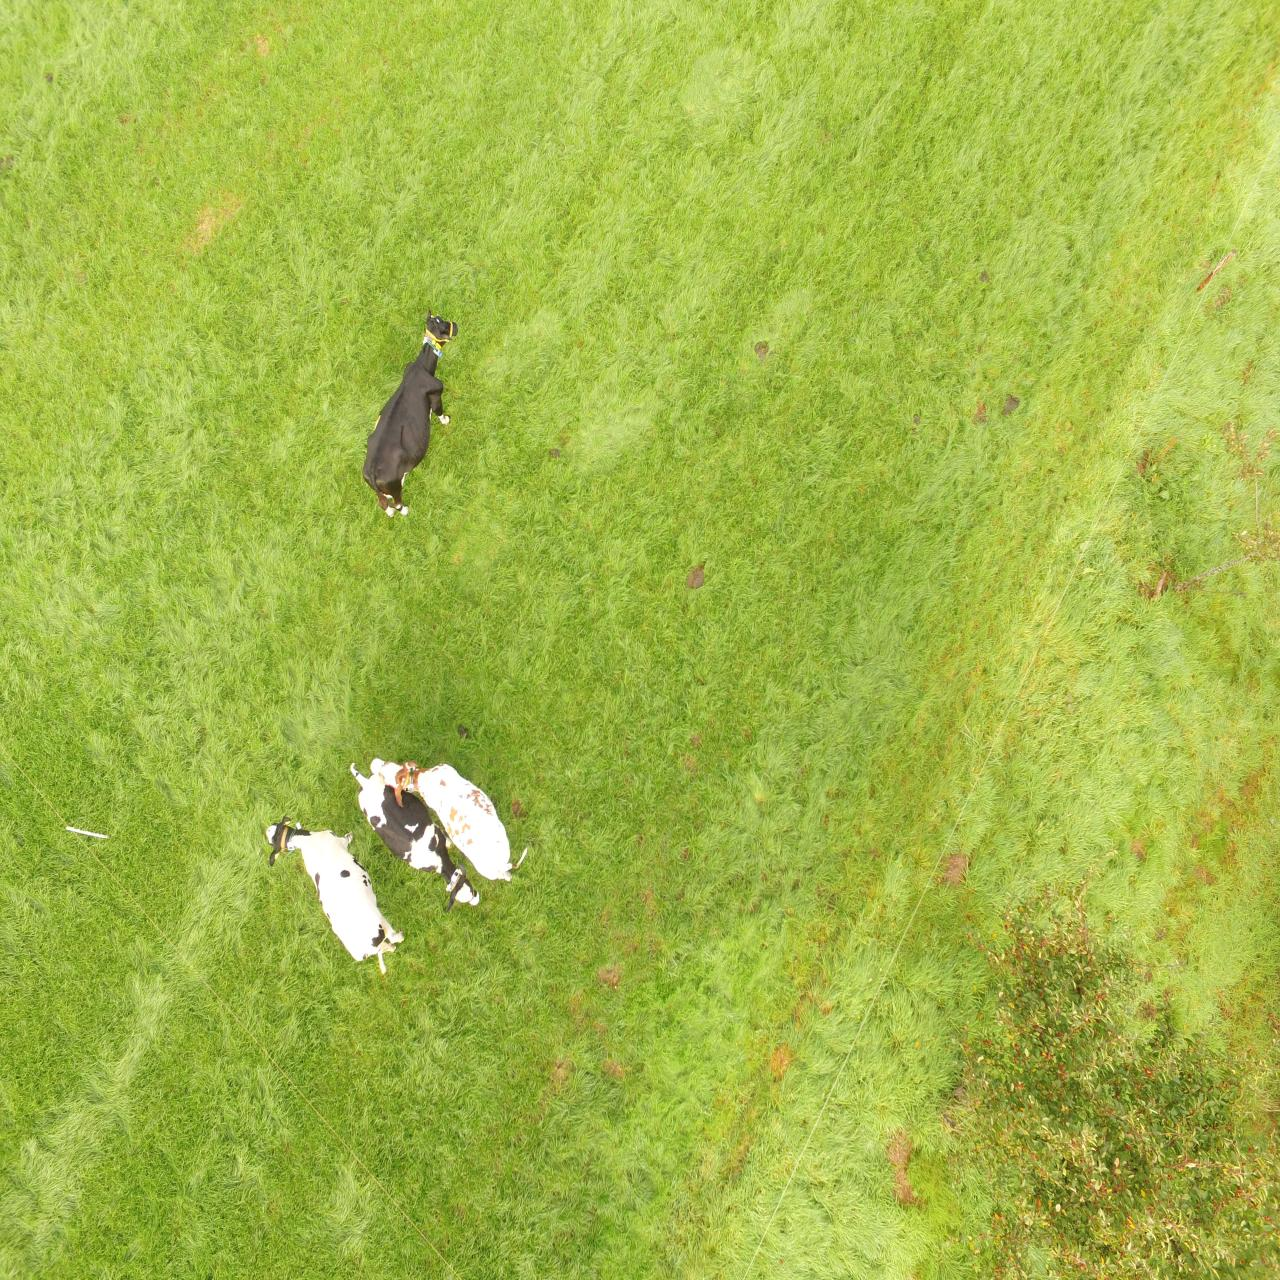cow: (264, 812, 407, 976), (365, 305, 459, 513), (347, 768, 482, 907), (374, 758, 519, 883)
